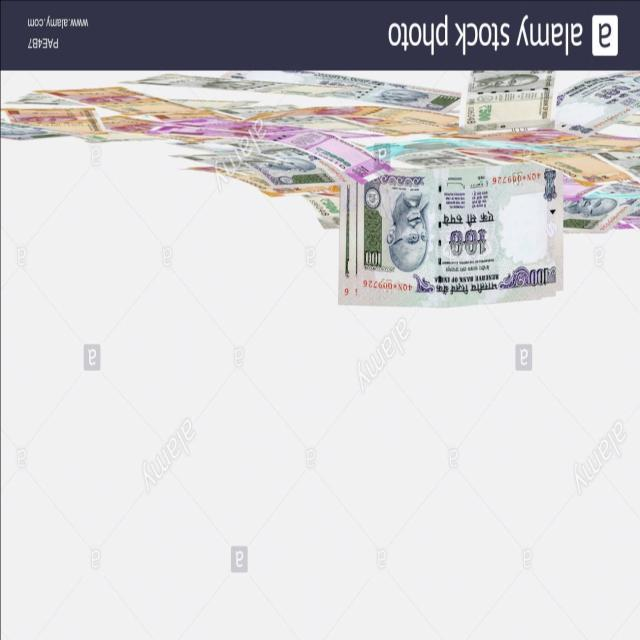100IndianRupees: (357, 158, 563, 299)
